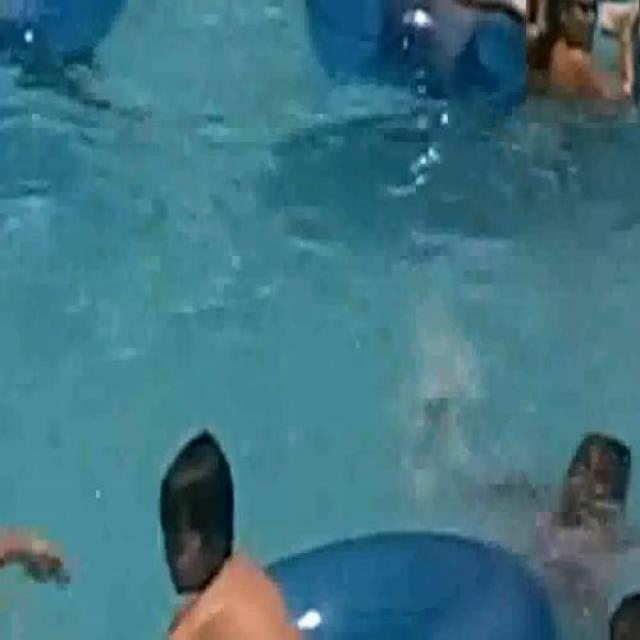Out of Water: (431, 407, 640, 579)
swimming: (128, 428, 287, 632)
